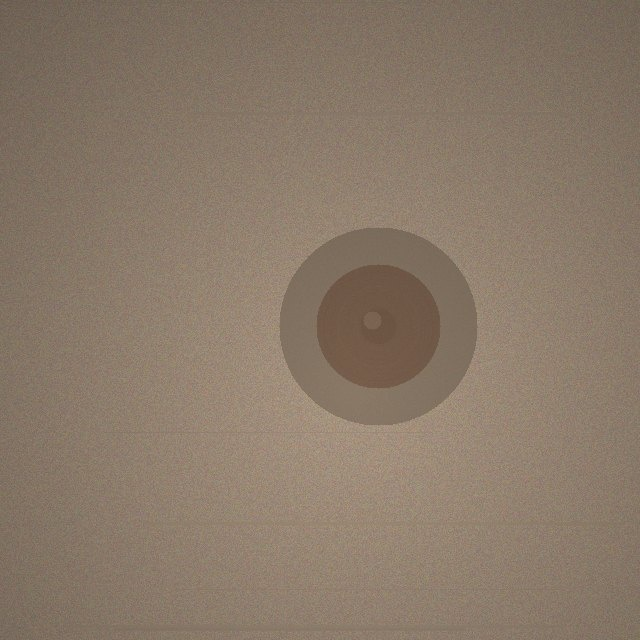good: (279, 227, 477, 425)
